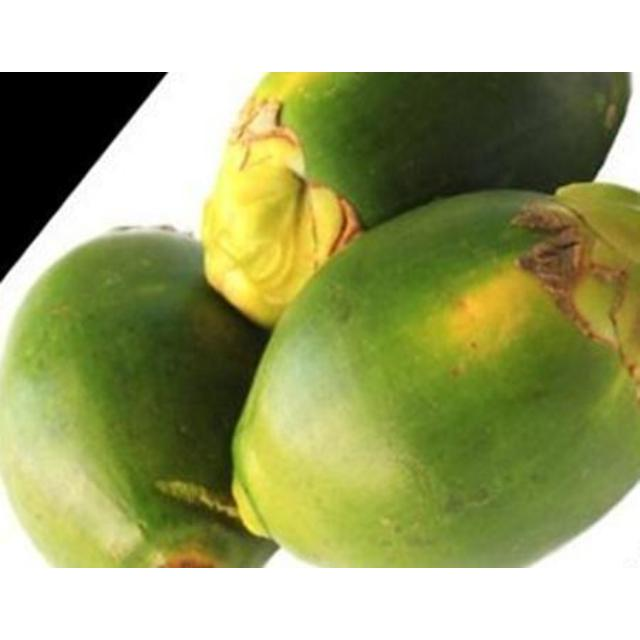good: (229, 183, 639, 567), (201, 72, 631, 295), (0, 228, 282, 567)
